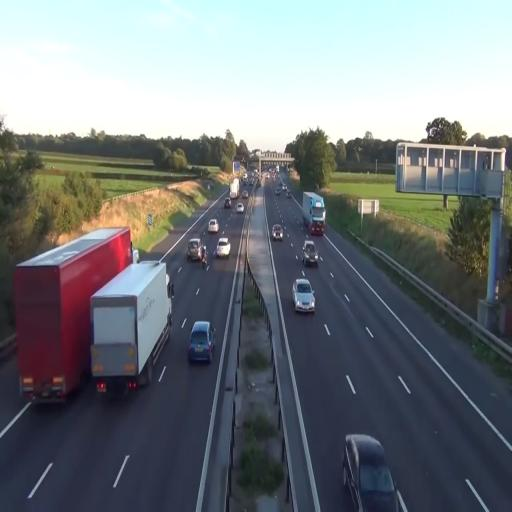vehicle: (13, 226, 134, 404), (13, 227, 134, 404), (89, 258, 172, 395), (90, 258, 172, 395), (342, 434, 408, 512), (188, 320, 214, 364), (302, 192, 326, 237), (302, 192, 326, 236), (292, 278, 316, 313), (187, 238, 208, 268), (302, 239, 320, 268), (214, 237, 231, 258), (272, 224, 284, 242), (208, 218, 220, 234)
